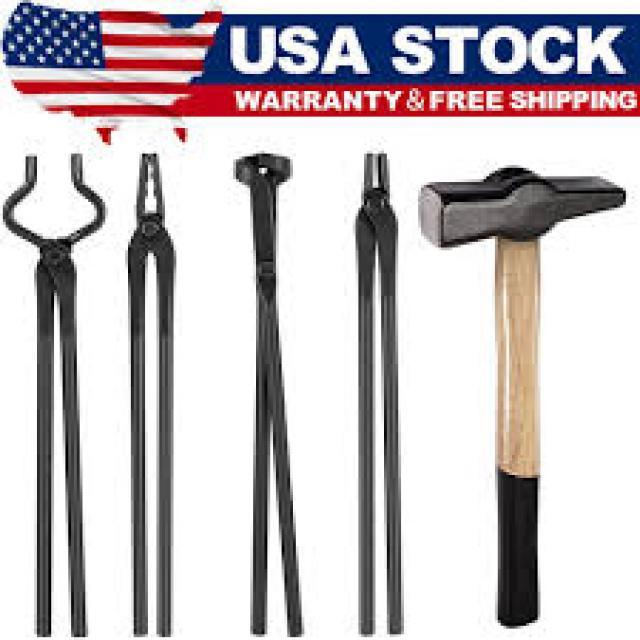hammer: (412, 142, 634, 640)
